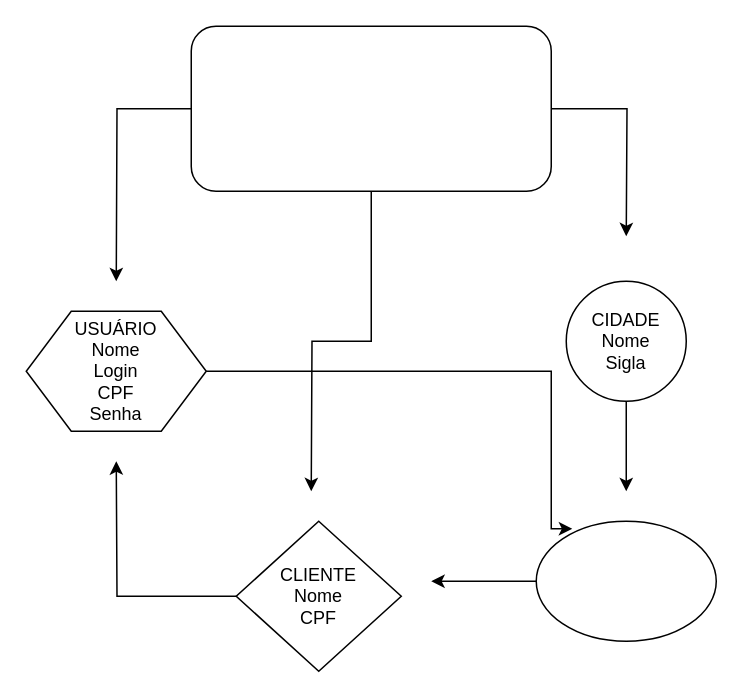
Image size: 743x698. Some labels were removed from this diagram. The centre of each missing label's shape, as x and y in pixels:
"ENDEREÇO Rua Número Complemento CEP" belongs at [625,580].
"RECIBO SEQUENCIA VALOR DATA ASSINATURA REFERENTE" belongs at [370,108].
